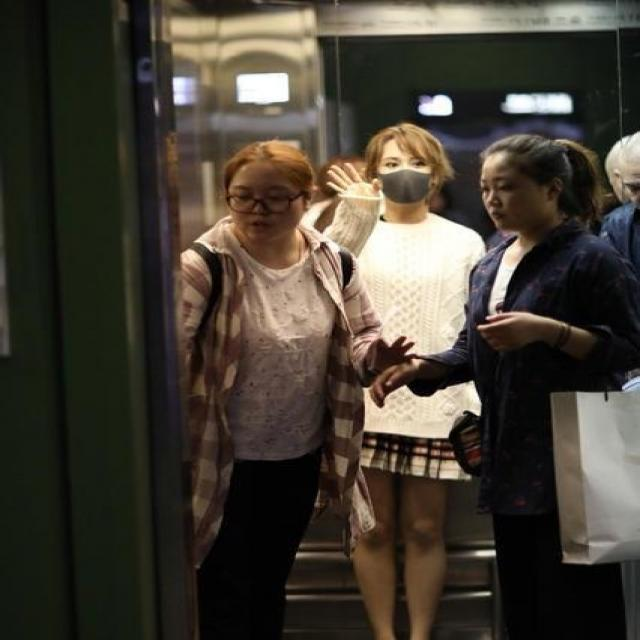mask: (377, 140, 431, 206)
nomask: (228, 165, 298, 239), (480, 155, 540, 232)
